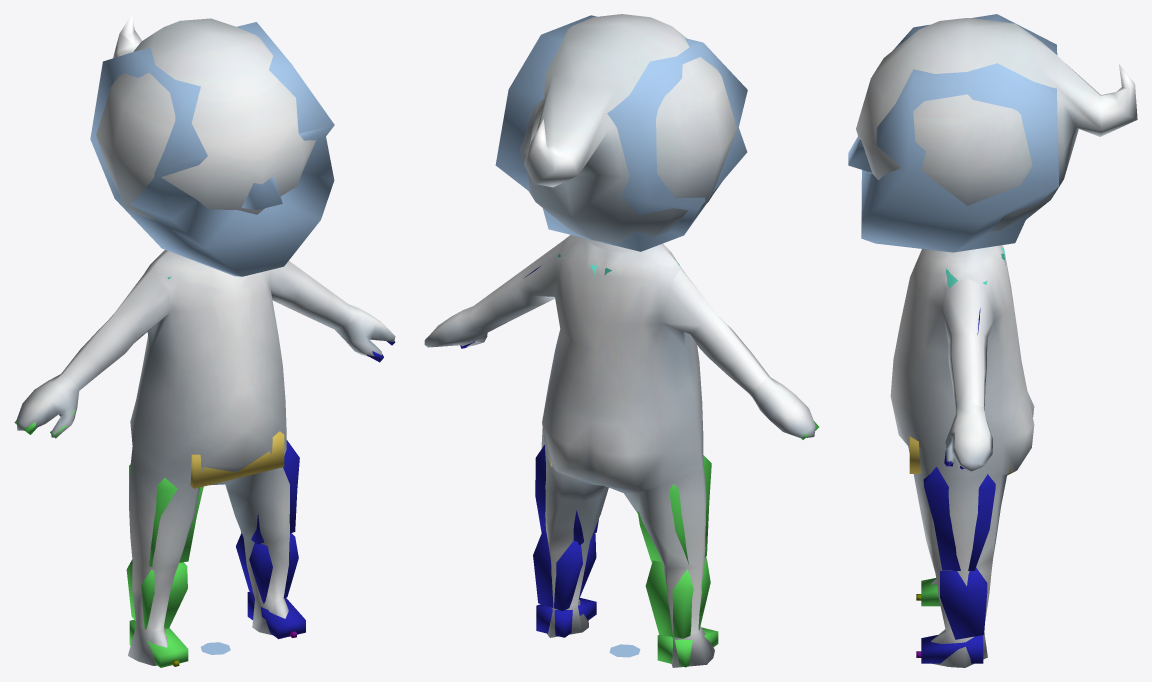
Rendered from White.obj.
3 renders of one model, left to right at view 1: azimuth 30°, elevation 25°; view 2: azimuth 150°, elevation 25°; view 3: azimuth 270°, elevation 25°, orthographic. The views are drawn at different scales.
Parts seen in each view (by area): view 1: MH021_000, Bip01_Head, Bip01_Pelvis, Bip01_L_Calf, Bip01_R_Calf, Bip01_R_Thigh, Bip01_L_Foot, Bip01_R_Foot, Bip01_L_Thigh; view 2: MH021_000, Bip01_Head, Bip01_L_Calf, Bip01_R_Calf, Bip01_R_Thigh, Bip01_L_Foot, Bip01_L_Thigh, Bip01_R_Foot; view 3: MH021_000, Bip01_Head, Bip01_L_Thigh, Bip01_L_Calf, Bip01_L_Foot, Bip01_R_Foot.
Part boxes in pixels (x1,y1,x2,y2): MH021_000: (16, 14, 395, 665); Bip01_Head: (90, 22, 334, 276); Bip01_Pelvis: (190, 431, 284, 488); Bip01_L_Calf: (236, 533, 298, 603); Bip01_R_Calf: (126, 559, 187, 629); Bip01_R_Thigh: (129, 464, 203, 566); Bip01_L_Foot: (247, 591, 305, 639); Bip01_R_Foot: (129, 620, 188, 667); Bip01_L_Thigh: (241, 440, 299, 544); MH021_000: (424, 14, 815, 667); Bip01_Head: (495, 15, 747, 251); Bip01_L_Calf: (533, 531, 596, 610); Bip01_R_Calf: (645, 558, 710, 638); Bip01_R_Thigh: (637, 455, 711, 564); Bip01_L_Foot: (536, 598, 596, 637); Bip01_L_Thigh: (535, 445, 598, 544); Bip01_R_Foot: (657, 627, 718, 667); MH021_000: (856, 18, 1137, 667); Bip01_Head: (848, 14, 1058, 252); Bip01_L_Thigh: (923, 467, 995, 570); Bip01_L_Calf: (940, 567, 987, 639); Bip01_L_Foot: (921, 635, 983, 663); Bip01_R_Foot: (921, 578, 940, 606).
Bounding box in the file's own units: 62.88 × 97.52 × 41.86.
